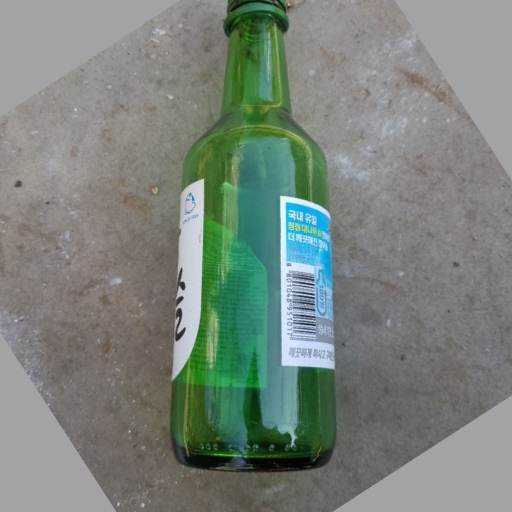Glass_0: (175, 1, 340, 473)
